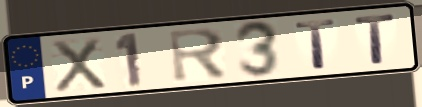1: (113, 30, 145, 90)
3: (233, 18, 283, 81)
R: (166, 26, 230, 85)
T: (293, 17, 340, 71), (352, 12, 399, 66)
X: (49, 36, 109, 95)
